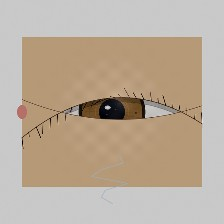foreign_body_visible: (88, 72, 109, 88)
